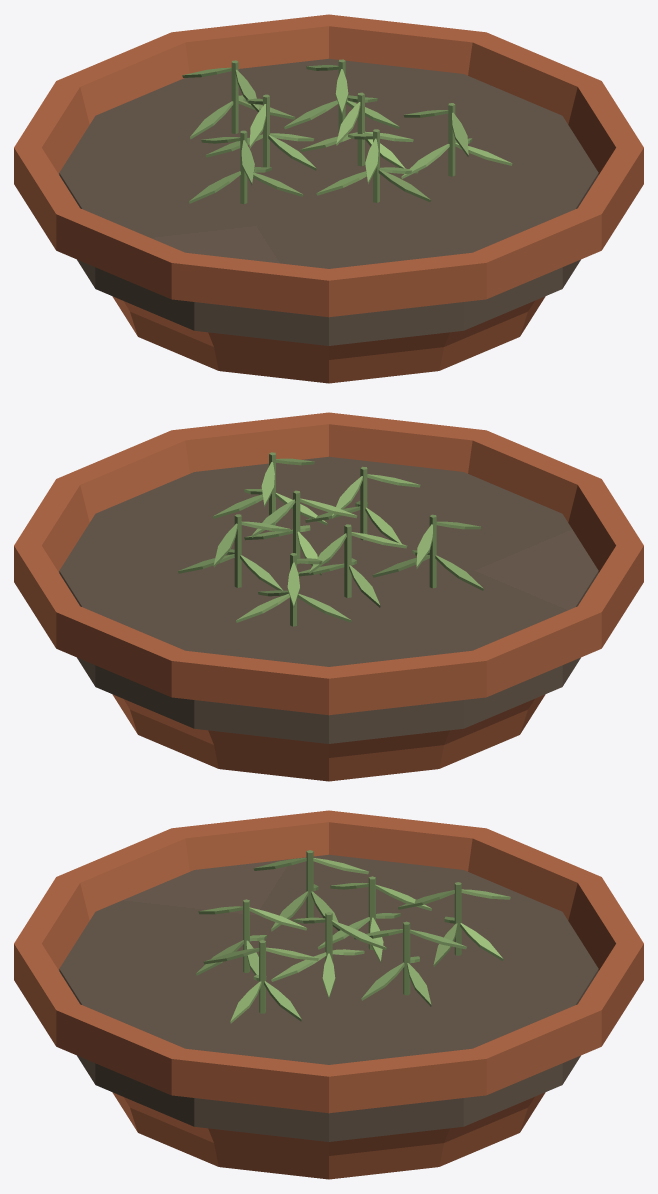
Rendered from moss-squarrosus.glb.
3 renders of one model, top to bottom at view 1: azimuth 30°, elevation 25°; view 2: azimuth 150°, elevation 25°; view 3: azimuth 270°, elevation 25°, orthographic.
Parts seen in each view (by area): view 1: moss-squarrosus/review-rooted-soil, moss-squarrosus/review-terra-vessel, moss-squarrosus/moss-stem-037; view 2: moss-squarrosus/review-rooted-soil, moss-squarrosus/review-terra-vessel, moss-squarrosus/moss-stem-007, moss-squarrosus/moss-stem-019; view 3: moss-squarrosus/review-rooted-soil, moss-squarrosus/review-terra-vessel, moss-squarrosus/moss-stem-019.
Boxes of the visible parts, box(x1,y1,x2,y2) form: moss-squarrosus/review-rooted-soil: box(59, 58, 598, 345); moss-squarrosus/review-terra-vessel: box(14, 14, 643, 383); moss-squarrosus/moss-stem-037: box(231, 60, 238, 133); moss-squarrosus/review-rooted-soil: box(59, 456, 598, 743); moss-squarrosus/review-terra-vessel: box(14, 412, 643, 781); moss-squarrosus/moss-stem-007: box(344, 524, 351, 597); moss-squarrosus/moss-stem-019: box(234, 514, 241, 587); moss-squarrosus/review-rooted-soil: box(59, 854, 598, 1141); moss-squarrosus/review-terra-vessel: box(14, 810, 643, 1179); moss-squarrosus/moss-stem-019: box(403, 921, 410, 995).
Bounding box in the file's own units: 0.25 × 0.0825 × 0.25.
Materials: 3 (3 with a texture image).
